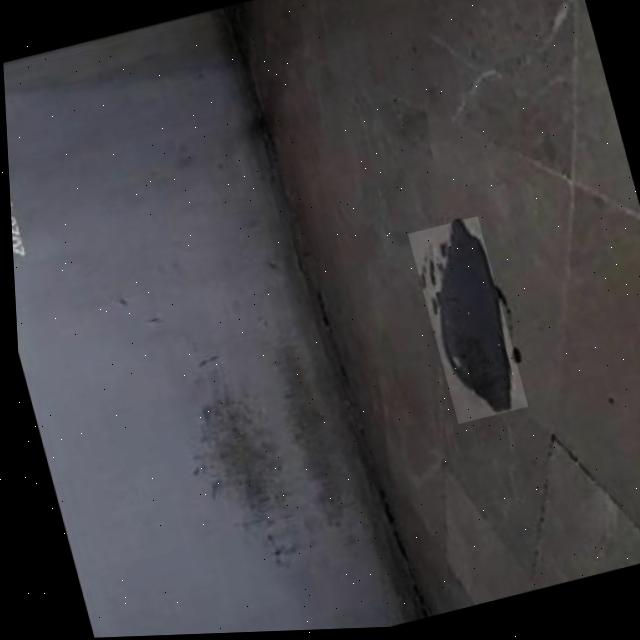spillage: (434, 223, 500, 414)
